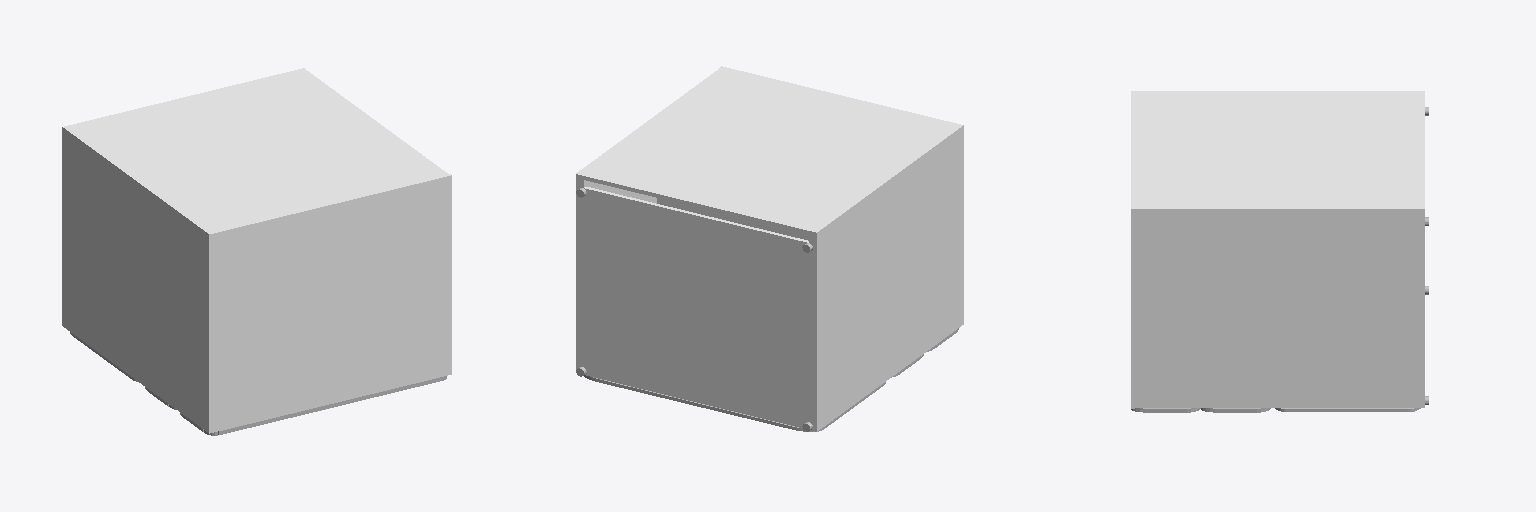
Rendered from StuvaFritidsChest_Pink.obj.
3 renders of one model, left to right at view 1: azimuth 30°, elevation 25°; view 2: azimuth 150°, elevation 25°; view 3: azimuth 270°, elevation 25°, orthographic.
Visible parts, largest first — view 1: obj_0; view 2: obj_0; view 3: obj_0.
Part boxes in pixels (left/top/right/bottom): obj_0: left=62, top=68, right=451, bottom=435; obj_0: left=576, top=66, right=963, bottom=431; obj_0: left=1131, top=91, right=1428, bottom=412.
Size of the model in its own units: 60 by 50 by 64.